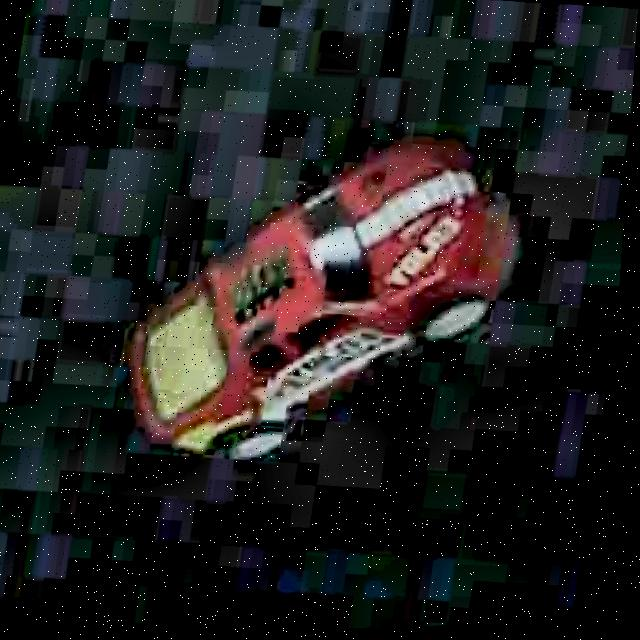car: (103, 110, 532, 493)
